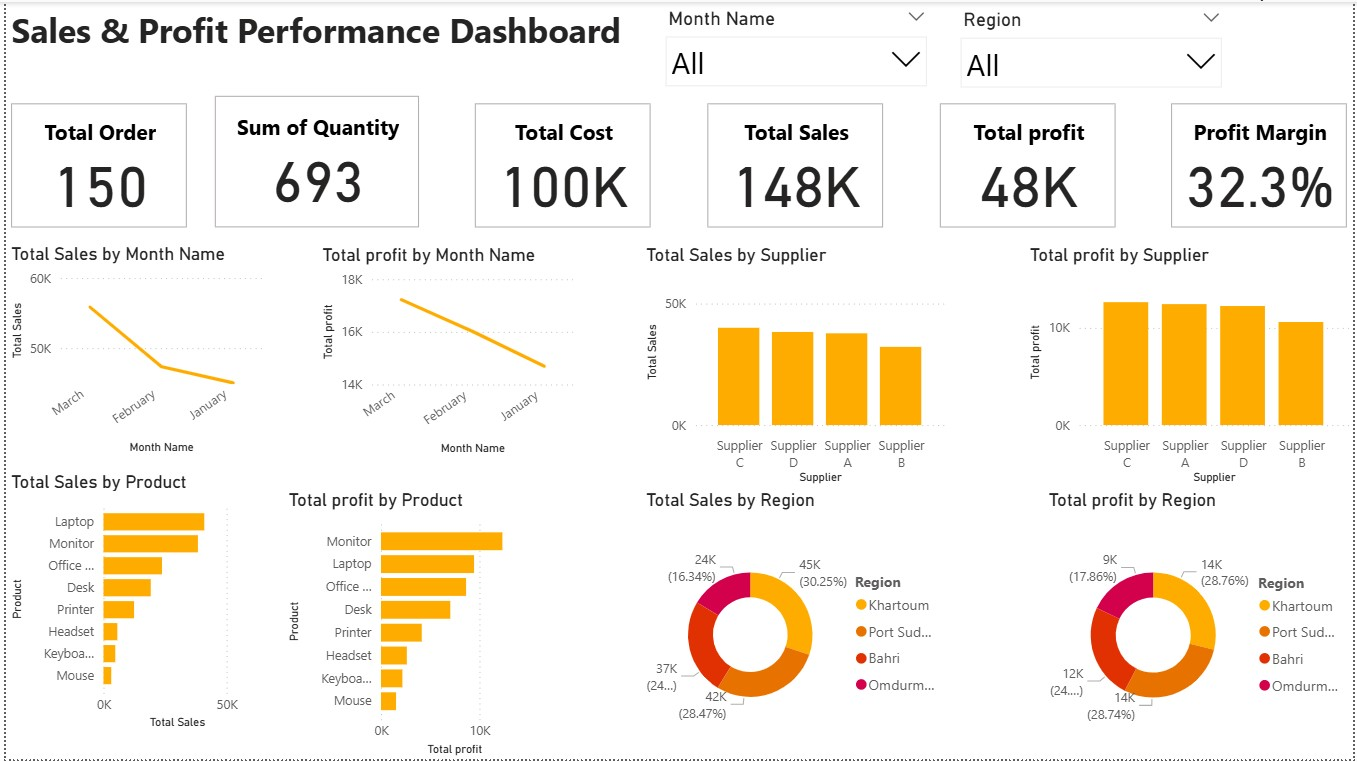

The dashboard page shown, as its layout file describes it:
{"tool":"powerbi","page":{"name":"Page 1","canvas":[1280,720],"ordinal":0},"visuals":[{"type":"textbox","box":[0,0,1280,91.1],"z":0},{"type":"cardVisual","fields":{"Data":["Sheet1.Total Order"]},"box":[0,91.1,177.8,128],"z":0,"group":"g1"},{"type":"group","id":"g1","title":"Group 1","box":[0,83.9,1280,135.3],"z":1000},{"type":"cardVisual","fields":{"Data":["Sheet1.Sum of Quantity"]},"box":[194,83.9,204.7,135.3],"z":1000,"group":"g1"},{"type":"cardVisual","fields":{"Data":["Sheet1.Total Cost"]},"box":[440.9,91.1,177.8,128],"z":2000,"group":"g1"},{"type":"lineChart","fields":{"Y":["Sheet1.Total Sales"],"Category":["Sheet1.Month Name"]},"box":[0,228.9,248.1,204.9],"z":2000},{"type":"cardVisual","fields":{"Data":["Sheet1.Total Sales"]},"box":[661.3,91.1,177.8,128],"z":3000,"group":"g1"},{"type":"lineChart","fields":{"Category":["Sheet1.Month Name"],"Y":["Sheet1.Total profit"]},"box":[296,230.1,248.1,204.9],"z":3000},{"type":"cardVisual","fields":{"Data":["Sheet1.Total profit"]},"box":[881.8,91.1,177.8,128],"z":4000,"group":"g1"},{"type":"clusteredBarChart","fields":{"Category":["Sheet1.Product"],"Y":["Sheet1.Total Sales"]},"box":[0,445.8,248.1,250.5],"z":4000},{"type":"cardVisual","fields":{"Data":["Sheet1.Margin Profit"]},"box":[1102.2,91.1,177.8,128],"z":5000,"group":"g1"},{"type":"clusteredBarChart","fields":{"Category":["Sheet1.Product"],"Y":["Sheet1.Total profit"]},"box":[263.7,462.6,248.1,257.7],"z":5000},{"type":"columnChart","fields":{"Category":["Sheet1.Supplier"],"Y":["Sheet1.Total Sales"]},"box":[602.8,230.1,293.6,232.5],"z":6000},{"type":"columnChart","fields":{"Category":["Sheet1.Supplier"],"Y":["Sheet1.Total profit"]},"box":[967.2,230.1,312.8,232.5],"z":7000},{"type":"donutChart","fields":{"Category":["Sheet1.Region"],"Y":["Sheet1.Total Sales"]},"box":[603,463,294,257],"z":8000},{"type":"donutChart","fields":{"Category":["Sheet1.Region"],"Y":["Sheet1.Total profit"]},"box":[985.2,462.6,294.8,257.7],"z":9000},{"type":"slicer","fields":{"Values":["Sheet1.Month Name"]},"box":[615.8,0,268.7,89],"z":10000},{"type":"slicer","fields":{"Values":["Sheet1.Region"]},"box":[897,1.8,268.7,89],"z":10001}]}

Visuals, with their boxes in screenshot pixels (x1, y1, x2, y2), scaled from the page's 1280x720 canvas onto the 1357x762 screenshot:
textbox: l=0, t=0, r=1356, b=96
cardVisual - Sheet1.Total Order: l=0, t=96, r=188, b=232
"Group 1" group: l=0, t=89, r=1356, b=232
cardVisual - Sheet1.Sum of Quantity: l=206, t=89, r=423, b=232
cardVisual - Sheet1.Total Cost: l=467, t=96, r=656, b=232
lineChart - Sheet1.Total Sales x Sheet1.Month Name: l=0, t=242, r=263, b=459
cardVisual - Sheet1.Total Sales: l=701, t=96, r=890, b=232
lineChart - Sheet1.Month Name x Sheet1.Total profit: l=314, t=244, r=577, b=460
cardVisual - Sheet1.Total profit: l=935, t=96, r=1123, b=232
clusteredBarChart - Sheet1.Product x Sheet1.Total Sales: l=0, t=472, r=263, b=737
cardVisual - Sheet1.Margin Profit: l=1169, t=96, r=1356, b=232
clusteredBarChart - Sheet1.Product x Sheet1.Total profit: l=280, t=490, r=543, b=761
columnChart - Sheet1.Supplier x Sheet1.Total Sales: l=639, t=244, r=950, b=490
columnChart - Sheet1.Supplier x Sheet1.Total profit: l=1025, t=244, r=1356, b=490
donutChart - Sheet1.Region x Sheet1.Total Sales: l=639, t=490, r=951, b=761
donutChart - Sheet1.Region x Sheet1.Total profit: l=1044, t=490, r=1356, b=761
slicer - Sheet1.Month Name: l=653, t=0, r=938, b=94
slicer - Sheet1.Region: l=951, t=2, r=1236, b=96
